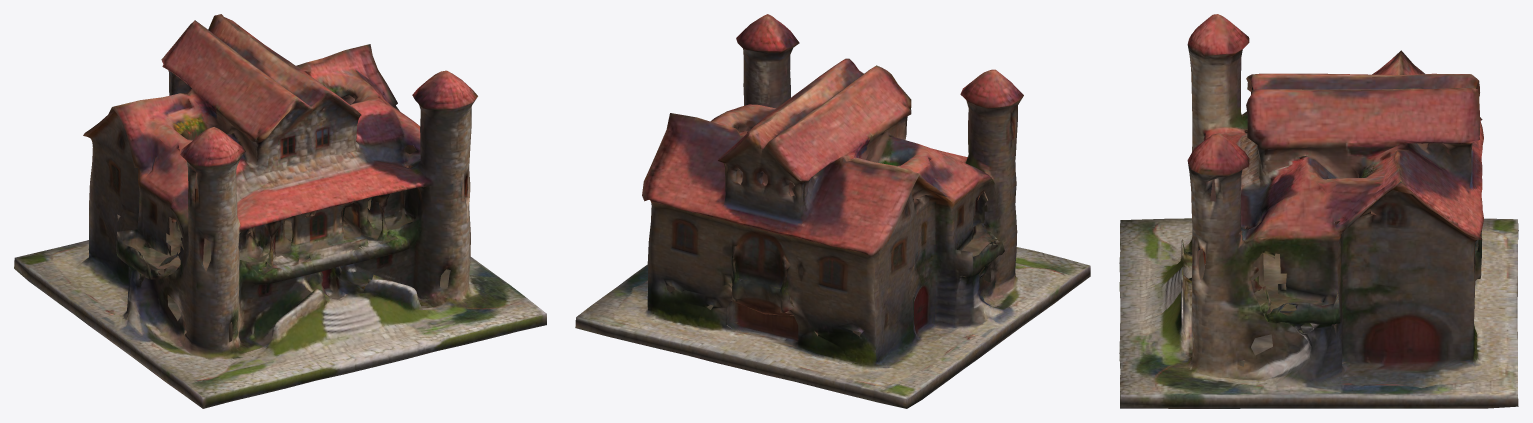
File: mansion.glb
3 views of the same model, side by side, from view 1: azimuth 30°, elevation 25°; view 2: azimuth 150°, elevation 25°; view 3: azimuth 270°, elevation 25° (orthographic). The views are drawn at different scales.
Parts seen in each view (by area): view 1: Mesh1_Mesh1_016; view 2: Mesh1_Mesh1_016; view 3: Mesh1_Mesh1_016.
Part boxes in pixels (box(x1,y1,x2,y2)): Mesh1_Mesh1_016: box(14, 14, 546, 408); Mesh1_Mesh1_016: box(575, 14, 1090, 408); Mesh1_Mesh1_016: box(1119, 14, 1518, 408).
Bounding box in the file's own units: 2 × 1.3 × 1.91.
1 material, 1 textured.
